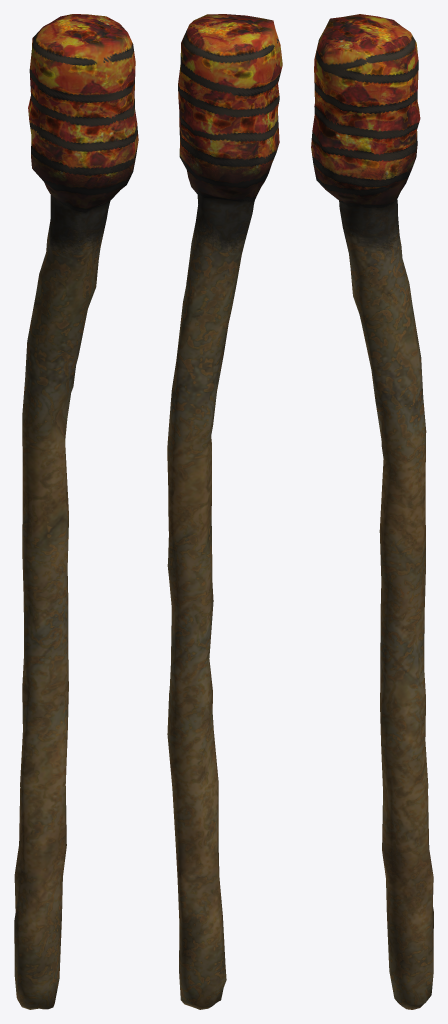
File: antorcha.obj
3 views of the same model, side by side, from view 1: azimuth 90°, elevation 25°; view 2: azimuth 150°, elevation 25°; view 3: azimuth 270°, elevation 25° (orthographic).
Visible parts, largest first — view 1: torchstick; view 2: torchstick; view 3: torchstick.
Boxes of the visible parts, bbox=[...] form: torchstick: bbox=[14, 14, 138, 1009]; torchstick: bbox=[167, 14, 282, 1009]; torchstick: bbox=[311, 14, 433, 1009].
Size of the model in its own units: 0.139 by 1.45 by 0.1664.
Materials: 1 (1 with a texture image).
